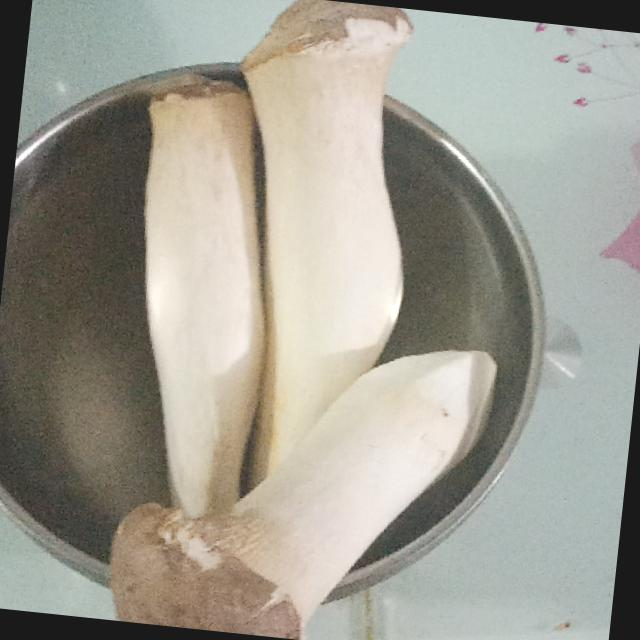Pleurotus eryngii: (106, 315, 490, 640), (200, 0, 415, 495)
